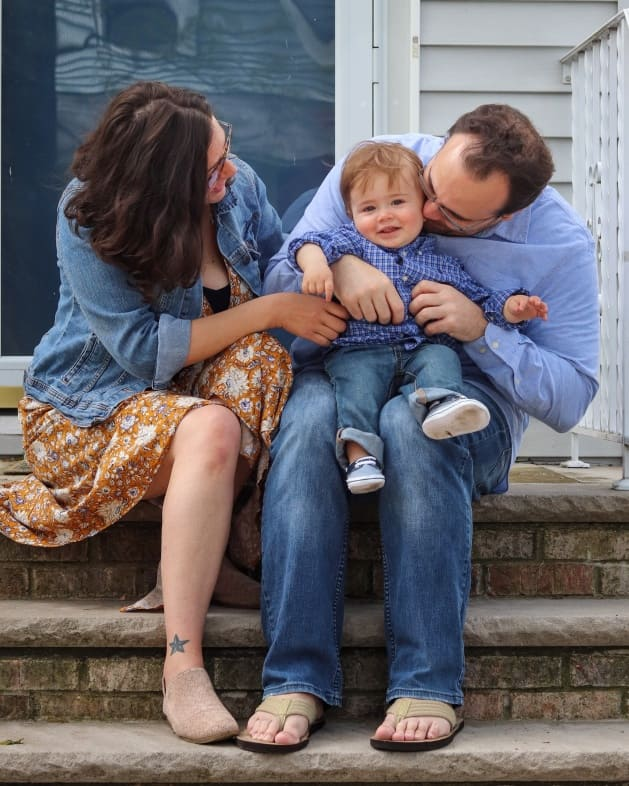person: (239, 106, 600, 746), (0, 85, 294, 737), (294, 145, 489, 496)
